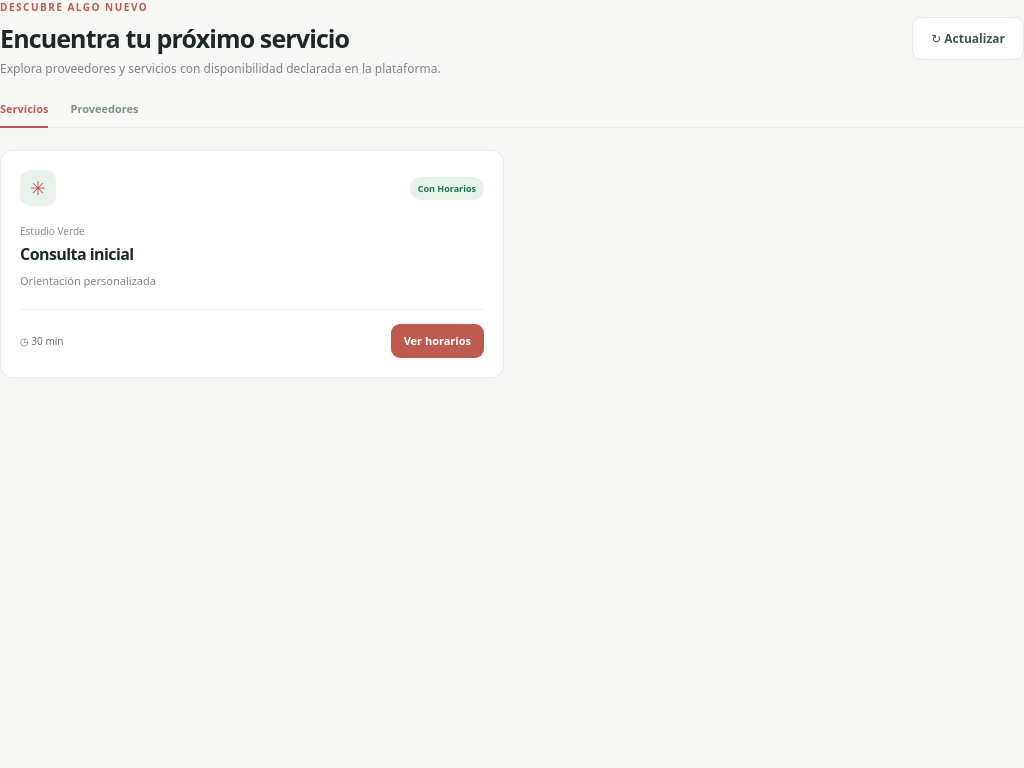
Scenario: ExplorePage › creates a booking only with a selected time from the returned block
Click the button "Ver horarios". click: (437, 341)
box: [391, 324, 484, 358]
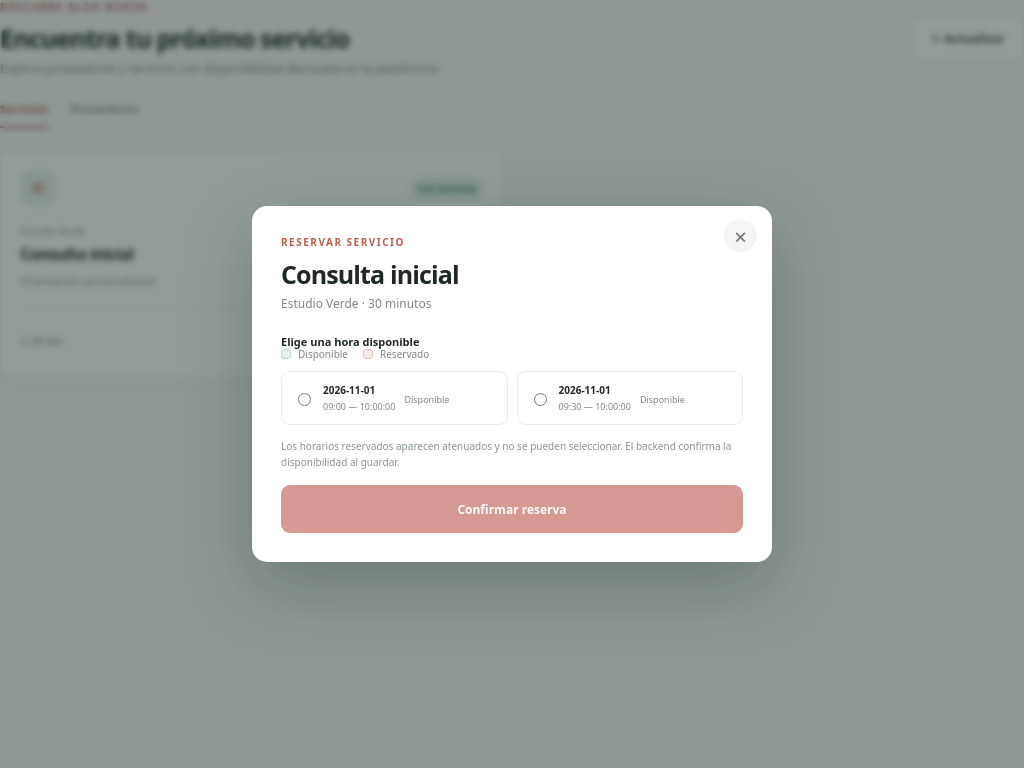
Click the radio button labelled "2026-11-01 09:00 — 10:00:00 Disponible". click: (304, 400)
box: [298, 393, 311, 406]
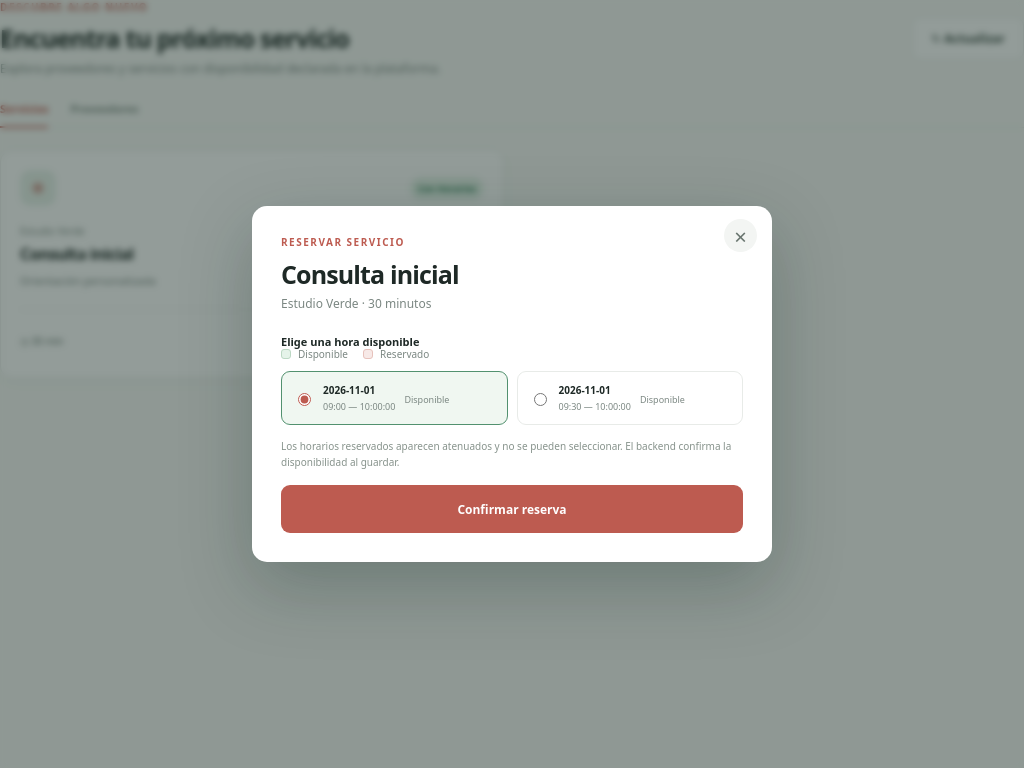
Click the button "Confirmar reserva". click: (512, 509)
box: [281, 485, 743, 533]
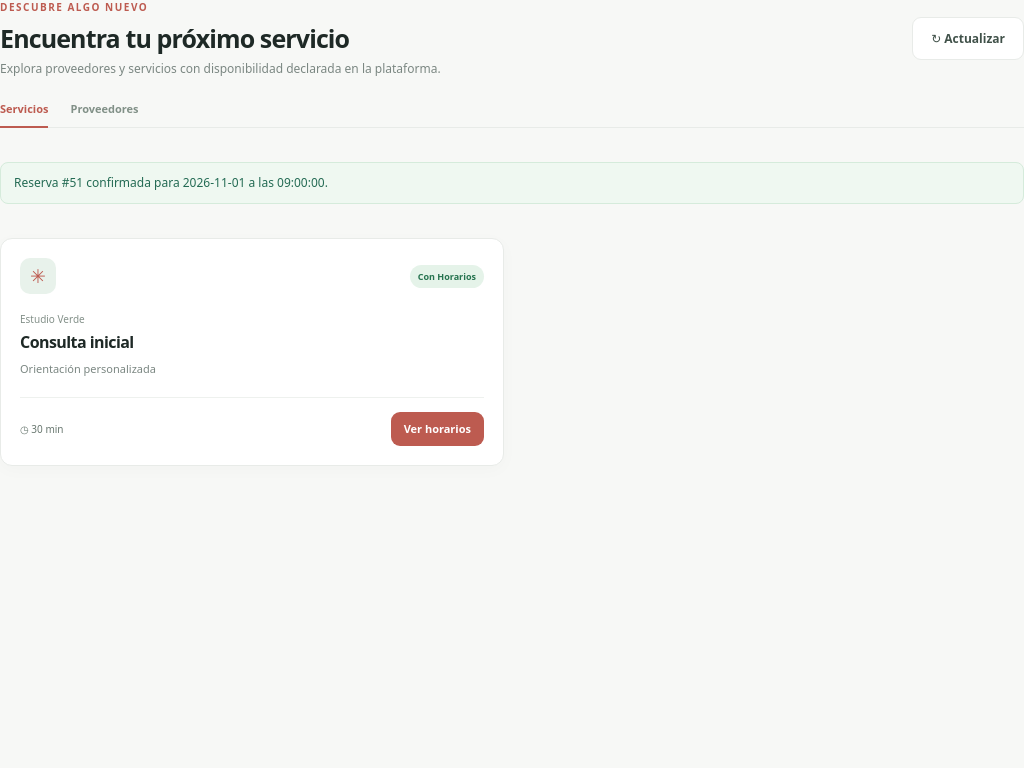
Check: the message shows "Reserva #51 confirmada", box [14, 174, 328, 191]
